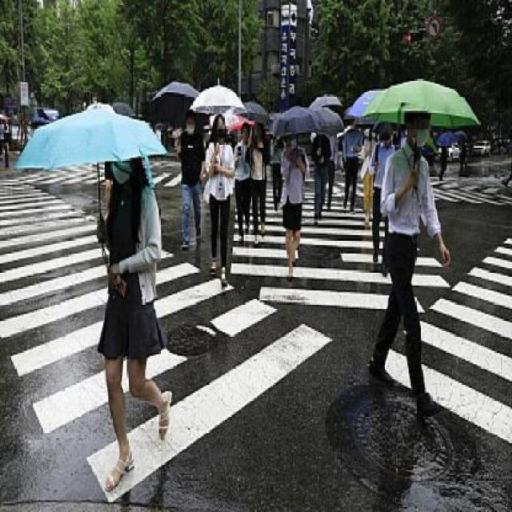guarda_chuva: (14, 101, 168, 261)
